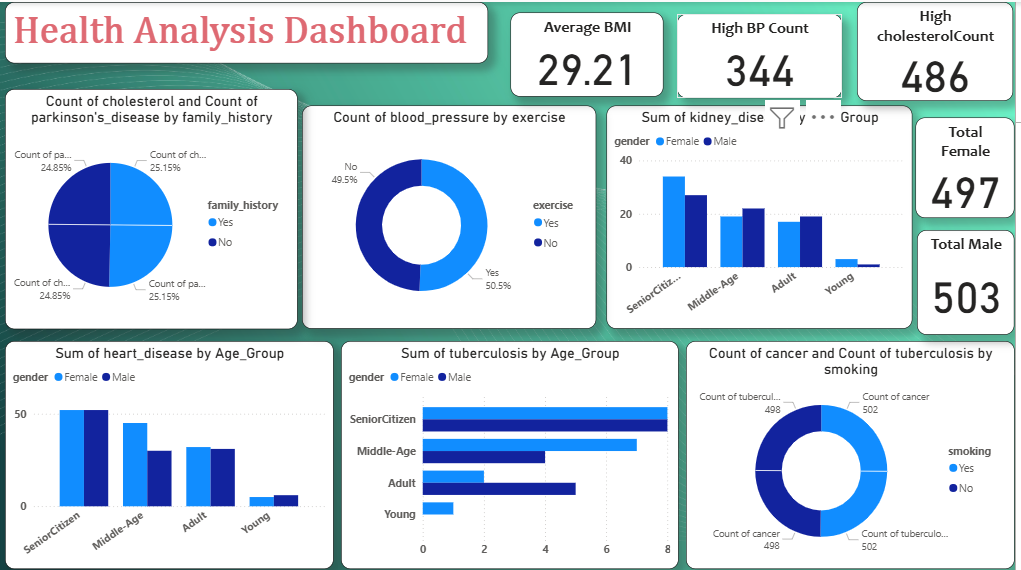

The dashboard page shown, as its layout file describes it:
{"tool":"powerbi","page":{"name":"Page 1","canvas":[1280,720],"ordinal":0},"visuals":[{"type":"clusteredColumnChart","title":"Sum of heart_disease by Age_Group ","fields":{"Y":["Sum(health health_tble.heart_disease)"],"Category":["health health_tble.Age_Group"],"Series":["health health_tble.gender"]},"box":[7.6,427.1,413.9,287.2],"z":0},{"type":"clusteredColumnChart","title":"Sum of kidney_disease by Age_Group ","fields":{"Y":["Sum(health health_tble.kidney_disease)"],"Category":["health health_tble.Age_Group"],"Series":["health health_tble.gender"]},"box":[763.5,136.1,385.5,266.5],"z":1000},{"type":"clusteredBarChart","title":"Sum of tuberculosis by Age_Group ","fields":{"Category":["health health_tble.Age_Group"],"Y":["Sum(health health_tble.tuberculosis)"],"Series":["health health_tble.gender"]},"box":[430.9,427.1,425.2,287.2],"z":2000},{"type":"donutChart","title":"Blood Pressure Distribution by Exercise","fields":{"Category":["health health_tble.exercise"],"Y":["CountNonNull(health health_tble.blood_pressure)"]},"box":[387.4,136.1,370.4,266.5],"z":3000},{"type":"pieChart","fields":{"Category":["health health_tble.family_history"],"Y":["CountNonNull(health health_tble.cholesterol)","CountNonNull(health health_tble.parkinson's_disease)"]},"box":[7.6,92.6,368.5,309.9],"z":4000},{"type":"donutChart","title":"Impact of Smoking on Cancer & Tuberculosis","fields":{"Category":["health health_tble.smoking"],"Y":["CountNonNull(health health_tble.cancer)","CountNonNull(health health_tble.tuberculosis)"]},"box":[865.5,427.1,413.9,287.2],"z":5000},{"type":"textbox","box":[7.6,0,608.5,77.5],"z":6000},{"type":"card","title":"Total Male","fields":{"Values":["health health_tble.Total Male"]},"box":[1156.5,287.2,122.8,132.3],"z":6003},{"type":"card","title":"Total Female","fields":{"Values":["health health_tble.Total Female"]},"box":[1154.7,145.5,124.7,126.6],"z":6004},{"type":"card","title":"Average BMI","fields":{"Values":["health health_tble.Average BMI"]},"box":[644.4,13.2,192.8,105.8],"z":6005},{"type":"card","title":"High BP Count","fields":{"Values":["health health_tble.High BP Count"]},"box":[854.2,15.1,207.9,105.8],"z":6006},{"type":"card","title":"High cholesterolCount","fields":{"Values":["health health_tble.Normal BP Count"]},"box":[1081,0,196.5,124.7],"z":6007}]}

Visuals, with their boxes in screenshot pixels (x1, y1, x2, y2), scaled from the page's 1280x720 canvas onto the 1021x570 screenshot:
"Sum of heart_disease by Age_Group " clusteredColumnChart: 6, 338, 336, 565
"Sum of kidney_disease by Age_Group " clusteredColumnChart: 609, 108, 917, 319
"Sum of tuberculosis by Age_Group " clusteredBarChart: 344, 338, 683, 565
"Blood Pressure Distribution by Exercise" donutChart: 309, 108, 604, 319
pieChart - health health_tble.family_history x CountNonNull(health health_tble.cholesterol): 6, 73, 300, 319
"Impact of Smoking on Cancer & Tuberculosis" donutChart: 690, 338, 1020, 565
textbox: 6, 0, 491, 61
"Total Male" card: 922, 227, 1020, 332
"Total Female" card: 921, 115, 1020, 215
"Average BMI" card: 514, 10, 668, 94
"High BP Count" card: 681, 12, 847, 96
"High cholesterolCount" card: 862, 0, 1019, 99
